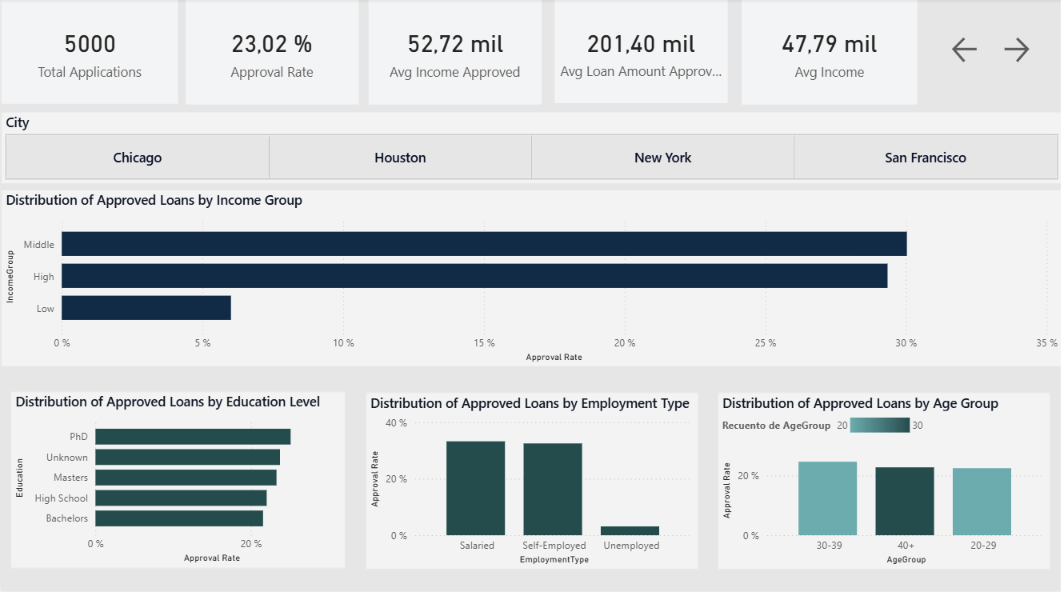

The page's visual inventory and layout, read from the dashboard file:
{"tool":"powerbi","page":{"name":"Loan Approval Analysis","canvas":[1280,720],"ordinal":1},"visuals":[{"type":"columnChart","title":"Distribution of Approved Loans by Age Group","fields":{"Category":["Age.AgeGroup"],"Y":["LoanRiskPrediction.Approval Rate"]},"box":[863.8,475.3,401.7,213.5],"z":0},{"type":"barChart","title":"Distribution of Approved Loans by Education Level","fields":{"Category":["Education.Education"],"Y":["LoanRiskPrediction.Approval Rate"]},"box":[10.9,474.1,404.2,213.5],"z":1000},{"type":"columnChart","title":"Distribution of Approved Loans by Employment Type","fields":{"Category":["EmploymentType.EmploymentType"],"Y":["LoanRiskPrediction.Approval Rate"]},"box":[438.5,475.3,401.7,213.5],"z":2000},{"type":"card","fields":{"Values":["Medidas.Avg Loan Amount"]},"box":[667.2,0,208.7,126.7],"z":3000},{"type":"card","fields":{"Values":["LoanRiskPrediction.Tasa Aprobación"]},"box":[222,0,208.7,127.9],"z":4000},{"type":"card","fields":{"Values":["LoanRiskPrediction.Total Solicitudes"]},"box":[0,0,212.8,127.2],"z":5000},{"type":"card","fields":{"Values":["LoanRiskPrediction.Avg Income Approved"]},"box":[442.8,0,208.7,127.9],"z":6000},{"type":"barChart","title":"Distribution of Approved Loans by Income Group","fields":{"Y":["LoanRiskPrediction.Approval Rate"],"Category":["IncomeGroup.IncomeGroup"]},"box":[0,231.6,1280,212.3],"z":7000},{"type":"advancedSlicerVisual","fields":{"Values":["City.City"]},"box":[0,137.5,1280,85.7],"z":8000},{"type":"card","fields":{"Values":["Loan.Avg Income"]},"box":[892.8,0,212.3,127.9],"z":9000},{"type":"actionButton","box":[1142.5,42.2,61.5,39.8],"z":10000},{"type":"actionButton","box":[1204,42.2,61.5,39.8],"z":11000}]}

Visuals, with their boxes in screenshot pixels (x1, y1, x2, y2), scaled from the page's 1280x720 canvas onto the 1061x592 screenshot:
"Distribution of Approved Loans by Age Group" columnChart: 716:391:1049:566
"Distribution of Approved Loans by Education Level" barChart: 9:390:344:565
"Distribution of Approved Loans by Employment Type" columnChart: 363:391:696:566
card - Medidas.Avg Loan Amount: 553:0:726:104
card - LoanRiskPrediction.Tasa Aprobación: 184:0:357:105
card - LoanRiskPrediction.Total Solicitudes: 0:0:176:105
card - LoanRiskPrediction.Avg Income Approved: 367:0:540:105
"Distribution of Approved Loans by Income Group" barChart: 0:190:1060:365
advancedSlicerVisual - City.City: 0:113:1060:184
card - Loan.Avg Income: 740:0:916:105
actionButton: 947:35:998:67
actionButton: 998:35:1049:67
